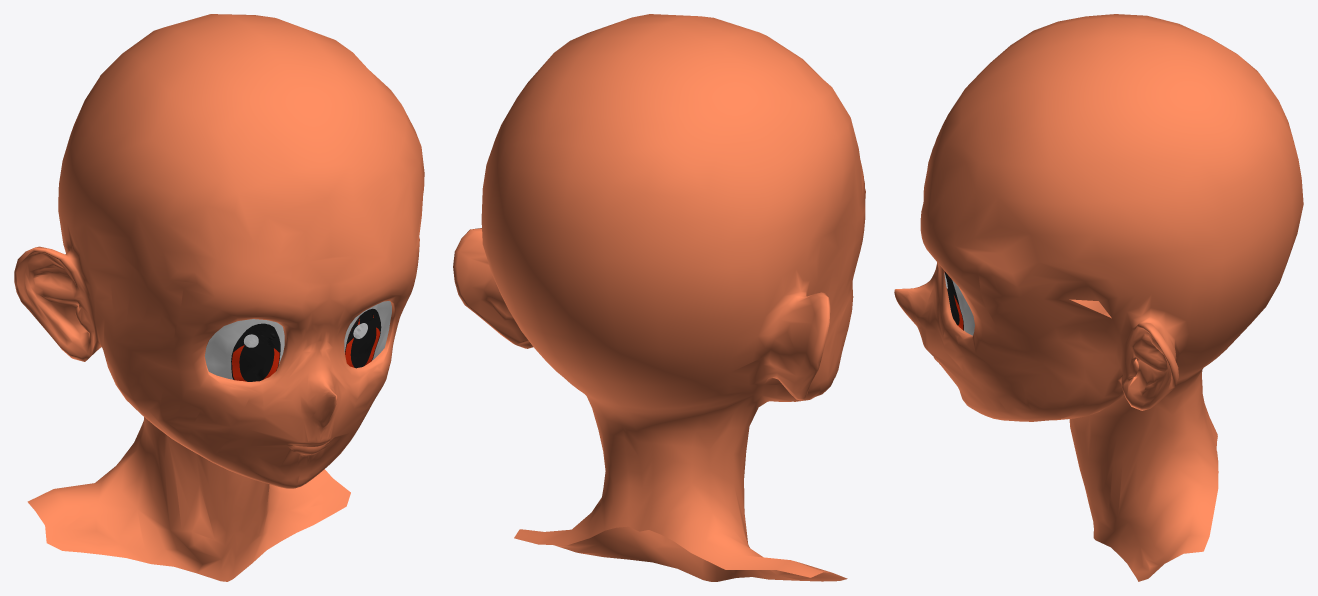
The model's file is Head1.fbx.
3 views of the same model, side by side, from view 1: azimuth 30°, elevation 25°; view 2: azimuth 150°, elevation 25°; view 3: azimuth 270°, elevation 25° (orthographic). The views are drawn at different scales.
Visible parts, largest first — view 1: skin, eye_whites, pupils, eye_lines, iris; view 2: skin; view 3: skin.
Boxes of the visible parts, left/top/right/bottom form: skin: left=14, top=14, right=424, bottom=581; eye_whites: left=204, top=301, right=391, bottom=379; pupils: left=239, top=327, right=376, bottom=381; eye_lines: left=233, top=309, right=381, bottom=352; iris: left=232, top=315, right=380, bottom=381; skin: left=453, top=14, right=865, bottom=581; skin: left=894, top=14, right=1303, bottom=581.
Size of the model in its own units: 22.34 by 30.47 by 21.82.
1 material, 1 textured.
